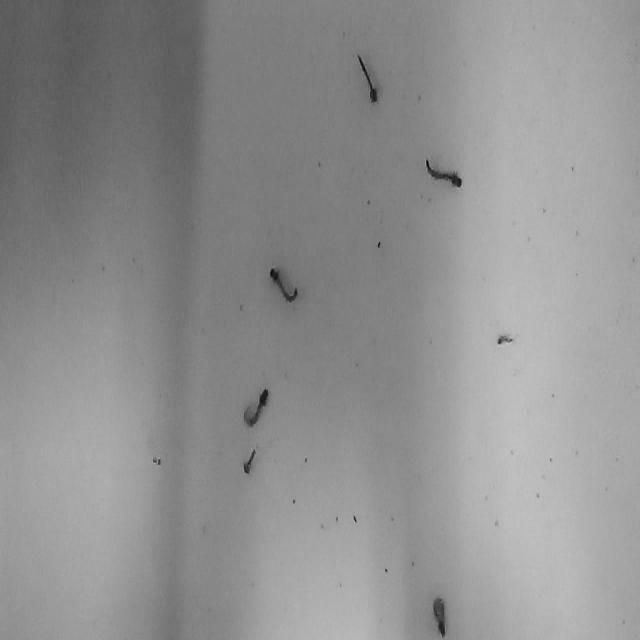larvas: (425, 157, 462, 190), (268, 266, 298, 302), (356, 54, 378, 102), (243, 388, 269, 427), (432, 596, 448, 636), (243, 448, 256, 475), (496, 333, 516, 345)
